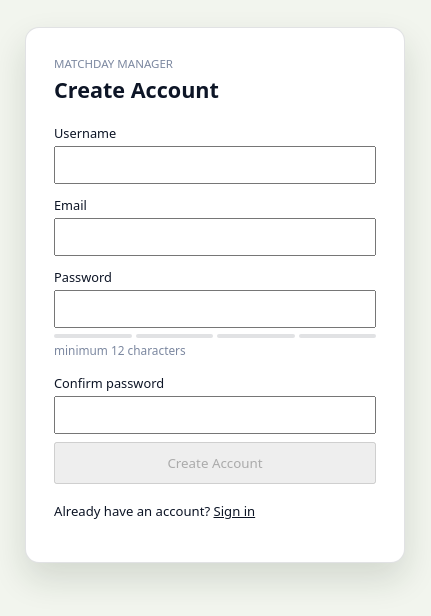
Test: RegisterScreen › shows a 'passwords don't match' error and disables submission
In the field labelled "Username": point(215, 165) [54,146,376,184], type "newuser"
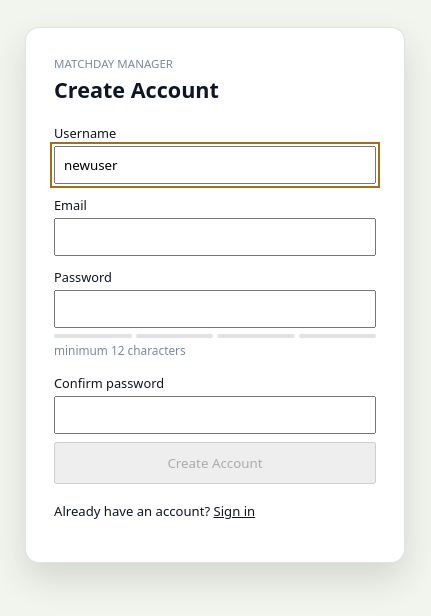
In the field labelled "Email": point(215, 237) [54,218,376,256], type "new@example.com"
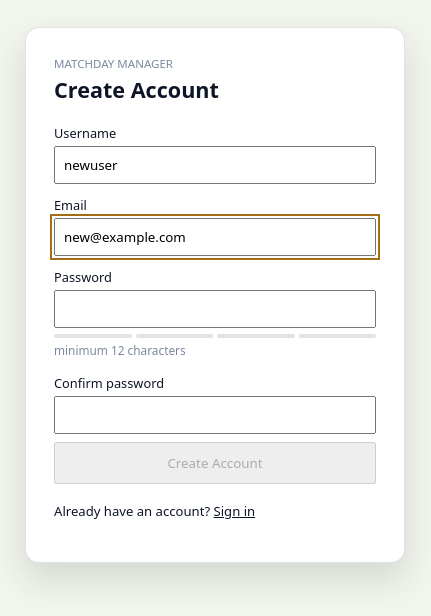
In the password field labelled "Password": point(215, 309) [54,290,376,328], type "Tr0ub4dor&Zebra!"
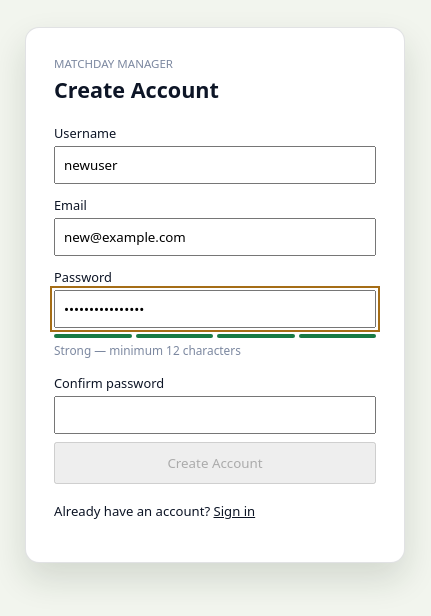
In the password field labelled "Confirm password": point(215, 415) [54,396,376,434], type "somethingelse12"
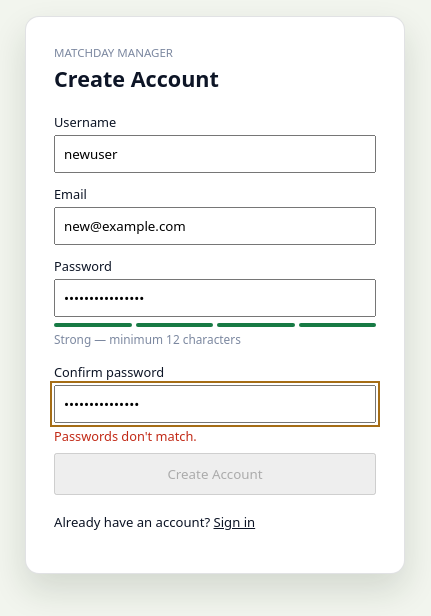
Expected: the button "Create Account" is disabled, [54,453,376,495]
Result: the text "Passwords don't match." is shown at [54,427,197,445]
